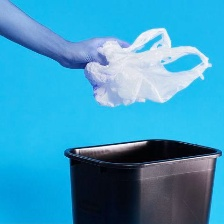plastic_bag: (79, 24, 215, 111)
